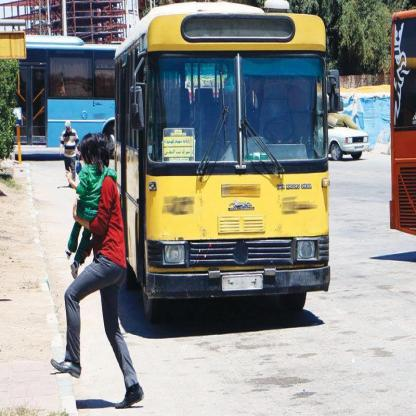Bus: (116, 17, 349, 334), (0, 44, 127, 155), (385, 10, 416, 250)
Car: (319, 100, 367, 169)
